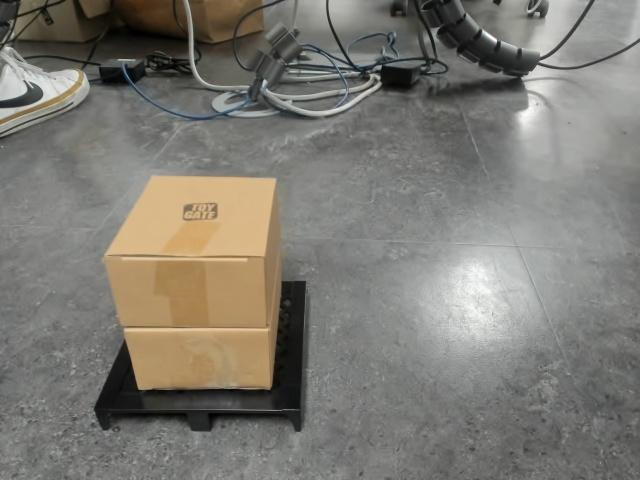box: (91, 174, 312, 431)
